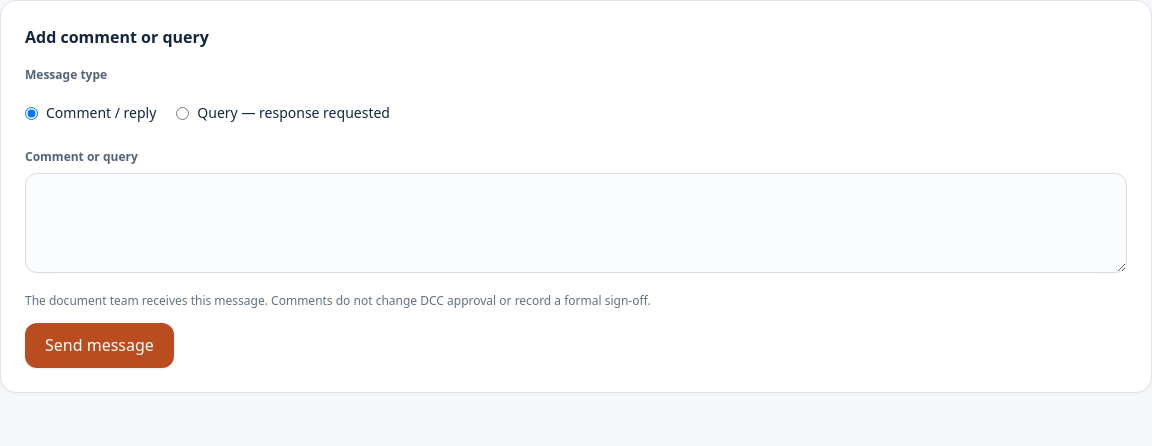
Test: submits exact scope and query body without a formal sign-off
The width and height of the screenshot is (1152, 446).
Click the radio button labelled "Query — response requested" at (183, 113), box x1=176 y1=106 x2=189 y2=120
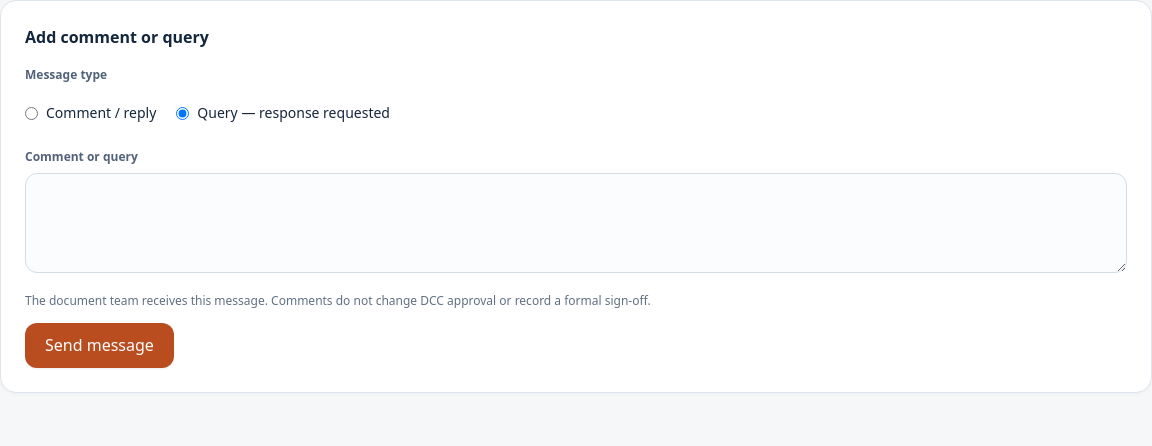
Type "Please confirm the interface boundary" into the text box labelled "Comment or query" at (576, 223), box x1=25 y1=173 x2=1127 y2=273
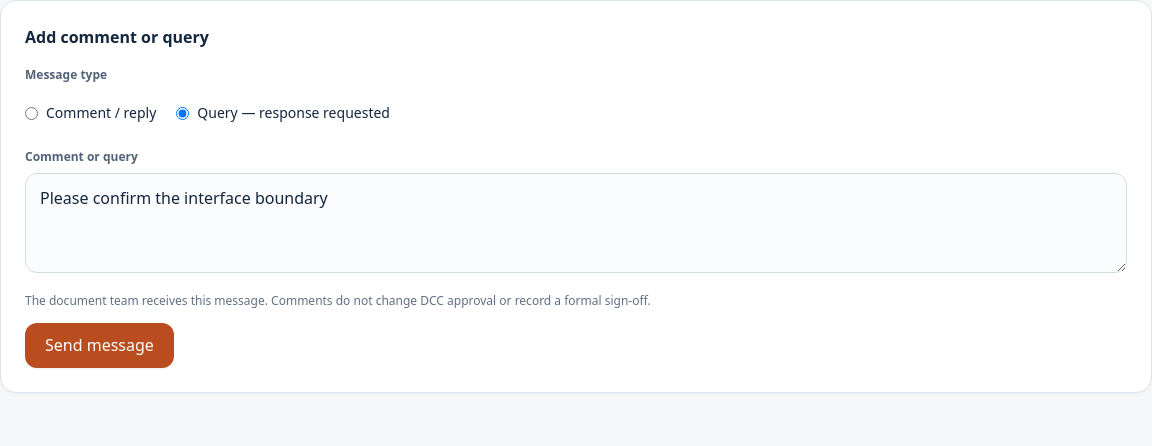
Submit the form named "Add interdisciplinary comment or query"
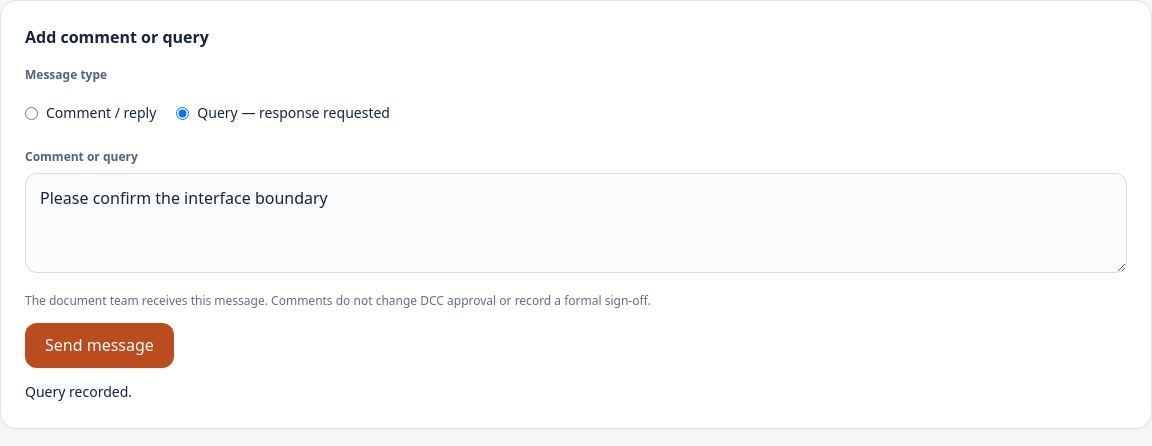
Expected: the message reads "Query recorded.", x1=25 y1=382 x2=132 y2=401
